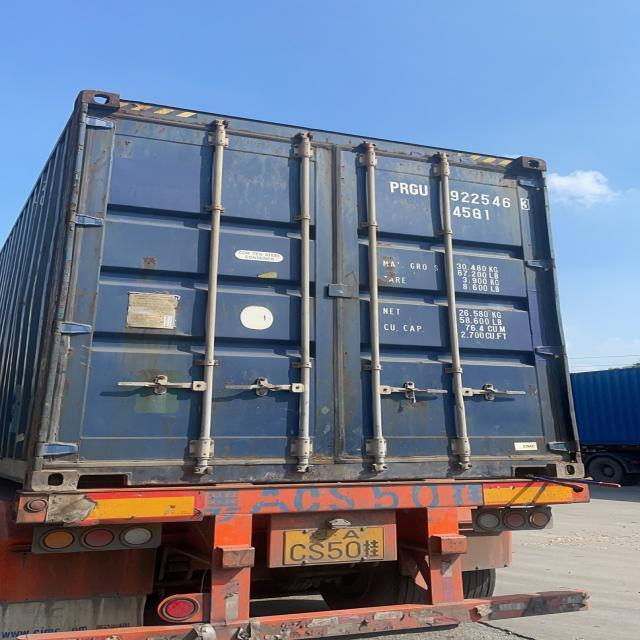ISO: (452, 202, 494, 222)
container_number: (389, 183, 535, 209)
